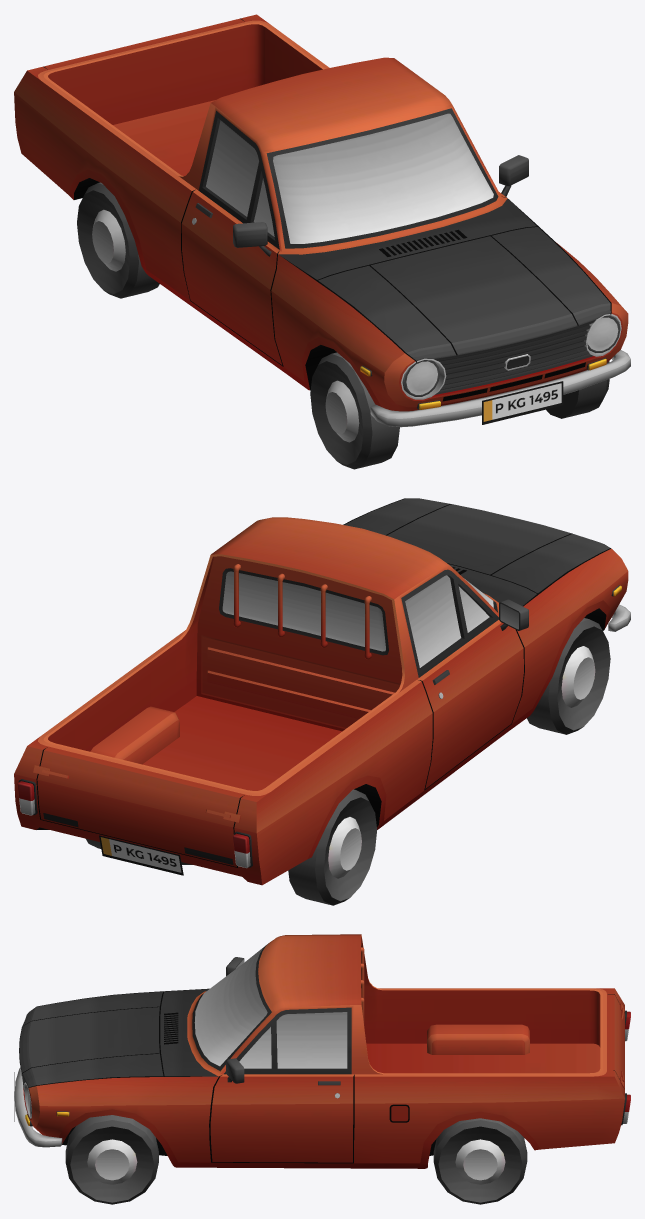
The model's file is truck.glb.
3 views of the same model, one above another, from view 1: azimuth 30°, elevation 25°; view 2: azimuth 150°, elevation 25°; view 3: azimuth 270°, elevation 25° (orthographic). The views are drawn at different scales.
Parts seen in each view (by area): view 1: Body.001, FRW, RRW, Circle.003, FLW; view 2: Body.001, RRW, FRW, Circle.000; view 3: Body.001, FLW, RLW.
Part boxes in pixels (x1,y1,x2,y2): Body.001: [14, 14, 630, 427]; FRW: [310, 352, 399, 469]; RRW: [77, 182, 159, 298]; Circle.003: [482, 381, 563, 424]; FLW: [546, 361, 609, 418]; Body.001: [14, 498, 630, 885]; RRW: [288, 789, 377, 905]; FRW: [527, 618, 610, 734]; Circle.000: [99, 835, 183, 875]; Body.001: [14, 934, 630, 1168]; FLW: [65, 1115, 158, 1204]; RLW: [433, 1118, 527, 1204].
Bounding box in the file's own units: 170 × 137 × 393.
2 materials, 2 textured.
